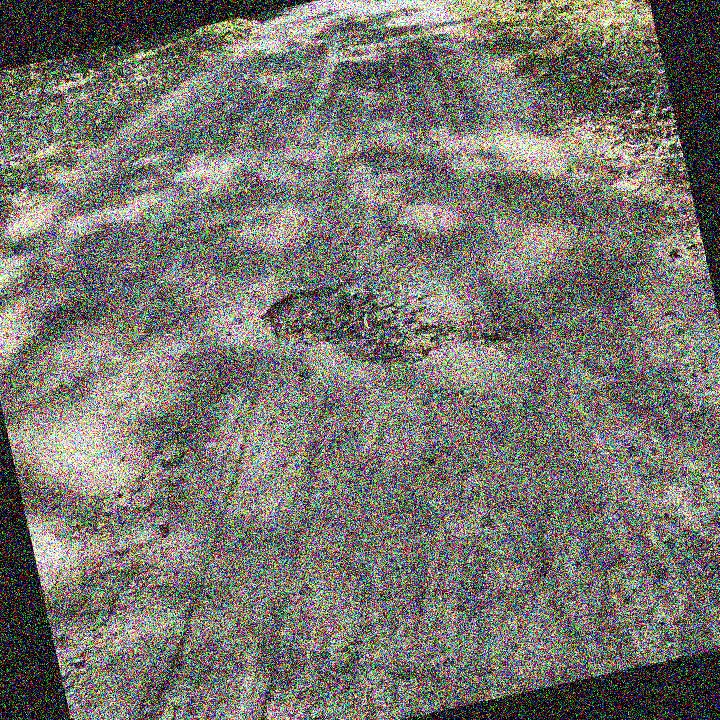pothole: (251, 255, 457, 395), (347, 59, 389, 85)
